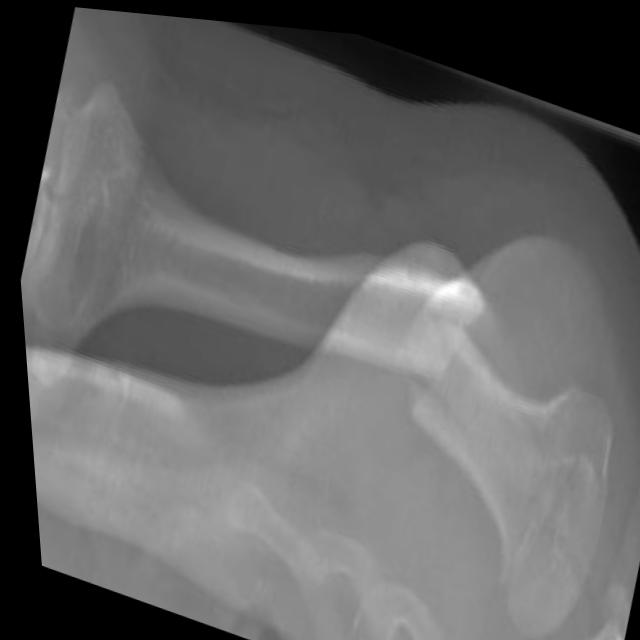fracture: (374, 230, 513, 448)
